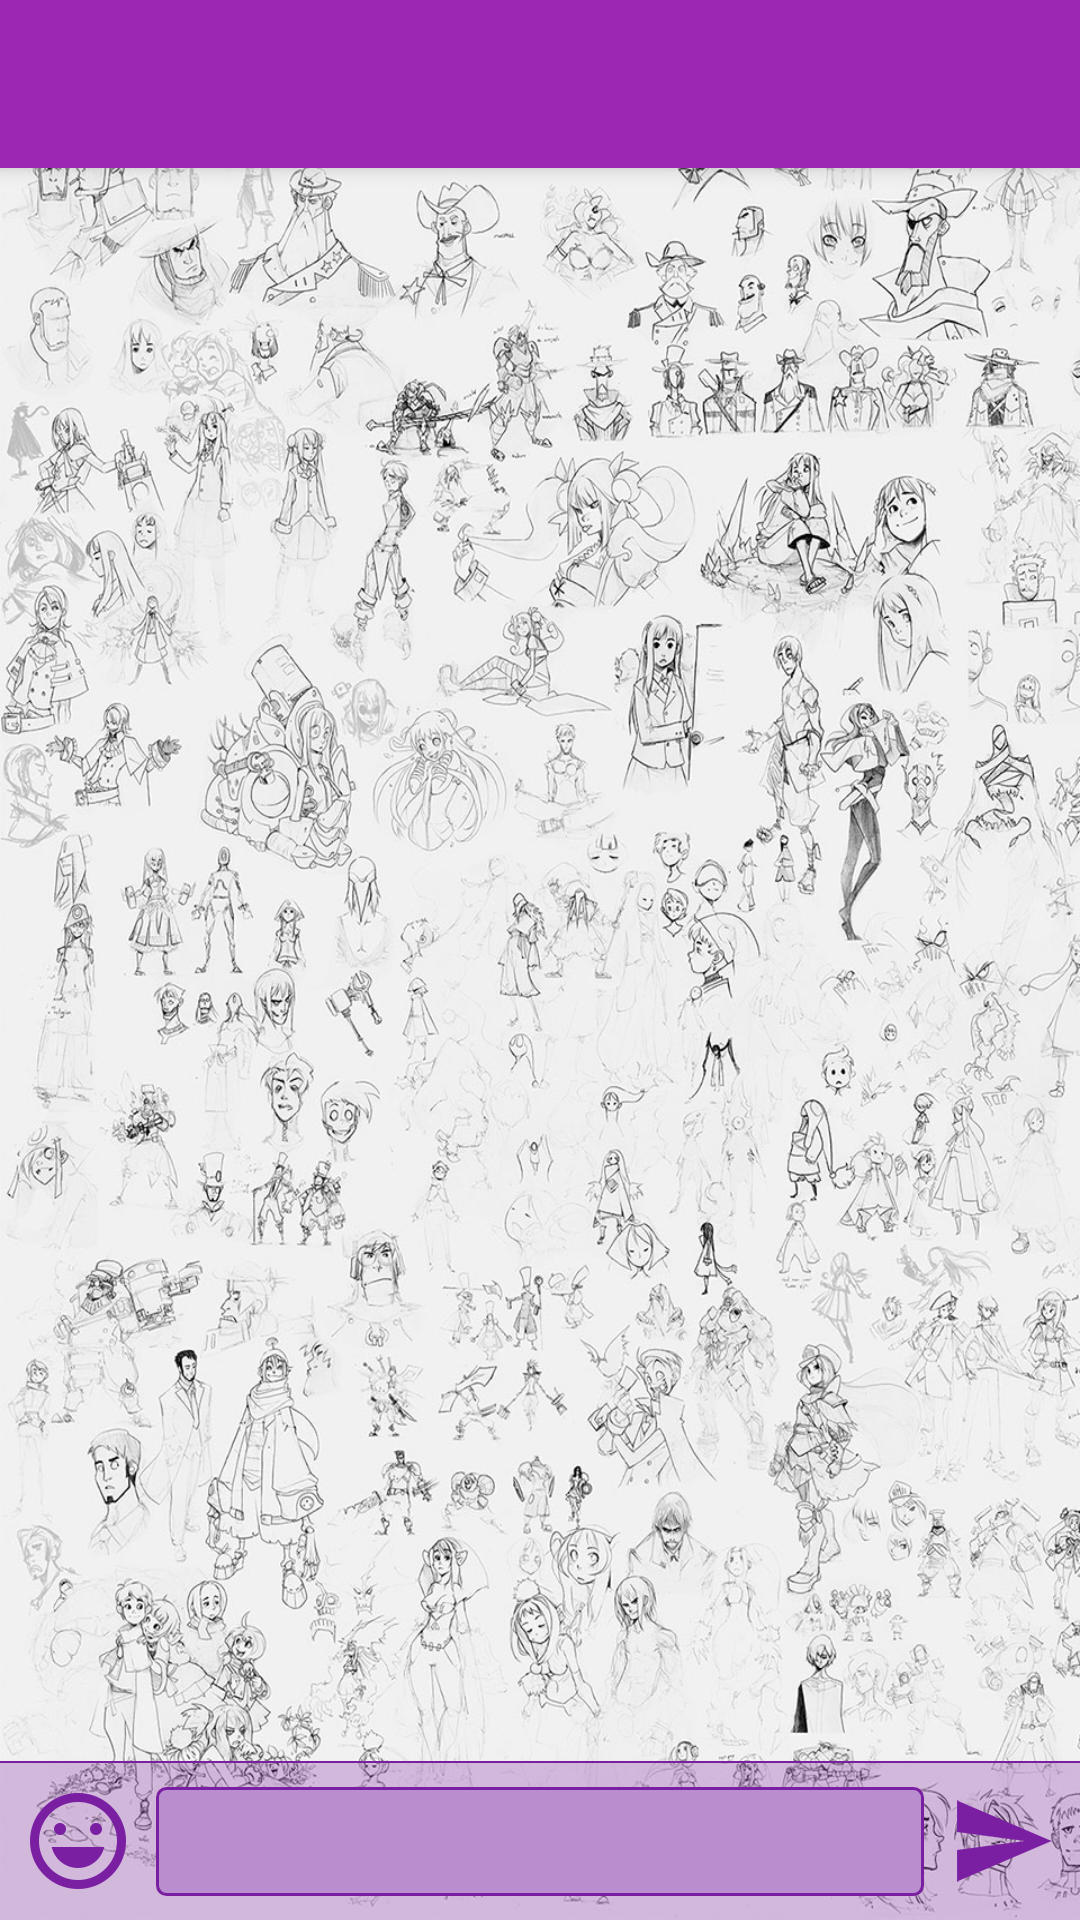

Named icons in this screenshot (1080w x 1920h) and their bounding boxes, (x1,y1,x2,y2):
Enviar mensagem: (948,1787,1056,1895)
Escolher emotion: (30,1787,132,1889)
